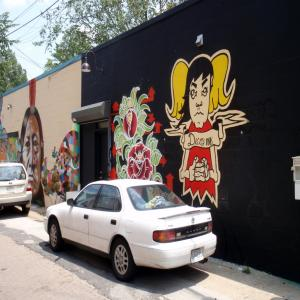Vehicle-registration-plate: (192, 250, 205, 266), (7, 187, 16, 194)
